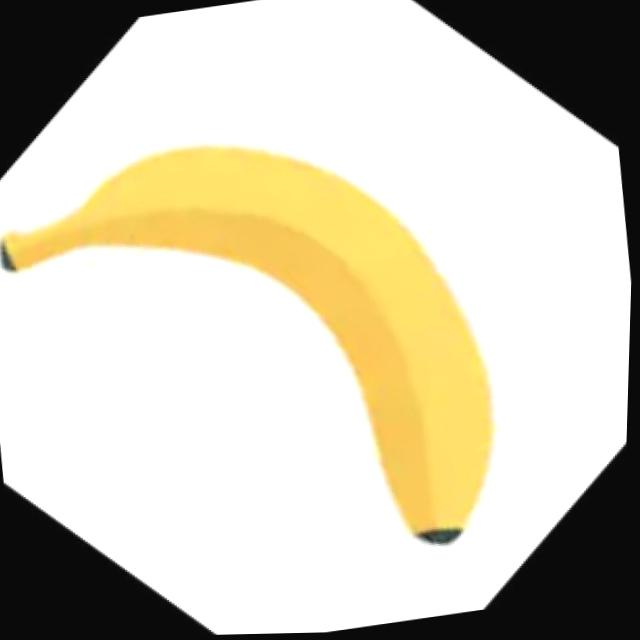Banana: (0, 104, 519, 604)
